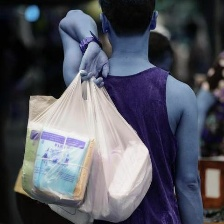plastic_bag: (9, 63, 154, 224)
